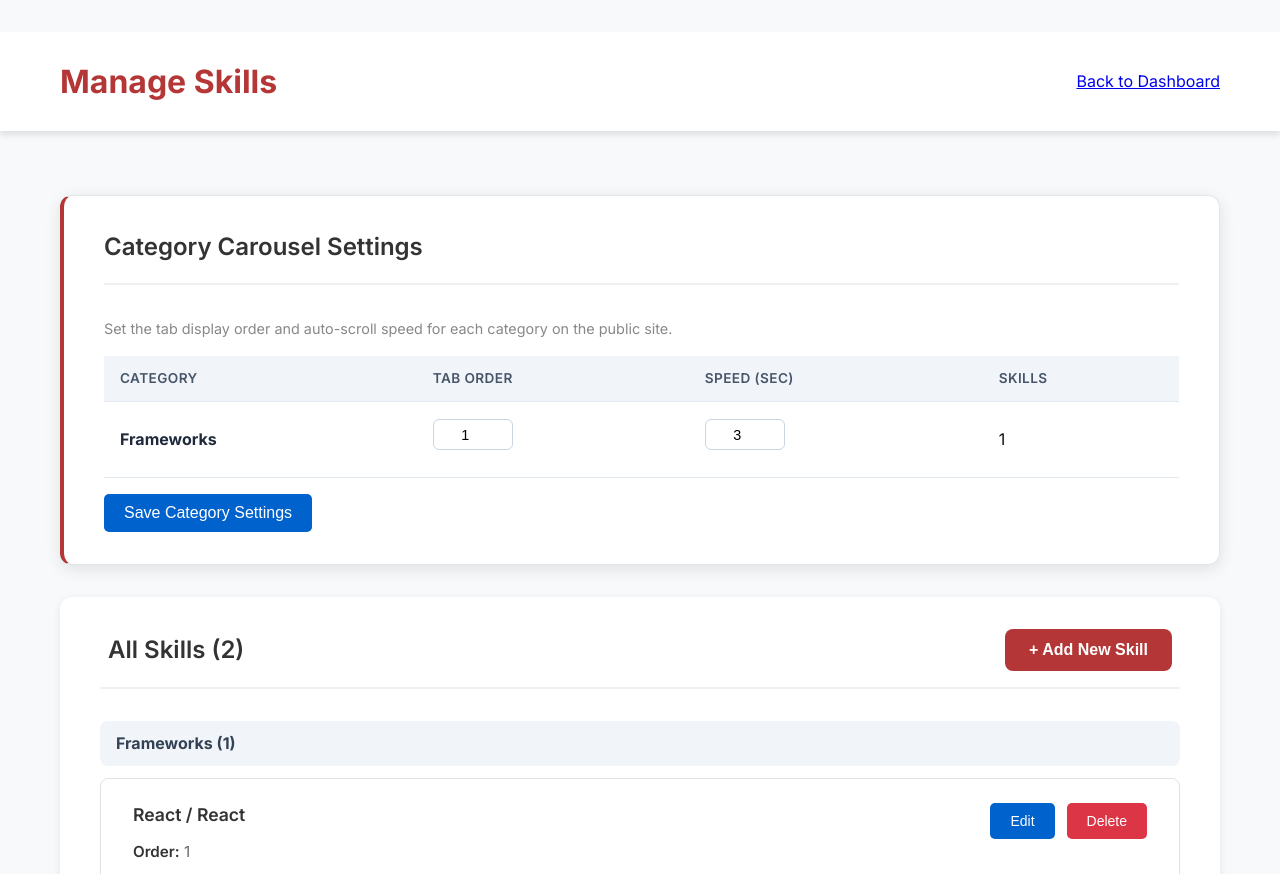
Test: AdminSkills › handles category settings save error
Click the button "Save Category Settings" at (208,513), box [104, 494, 312, 532]
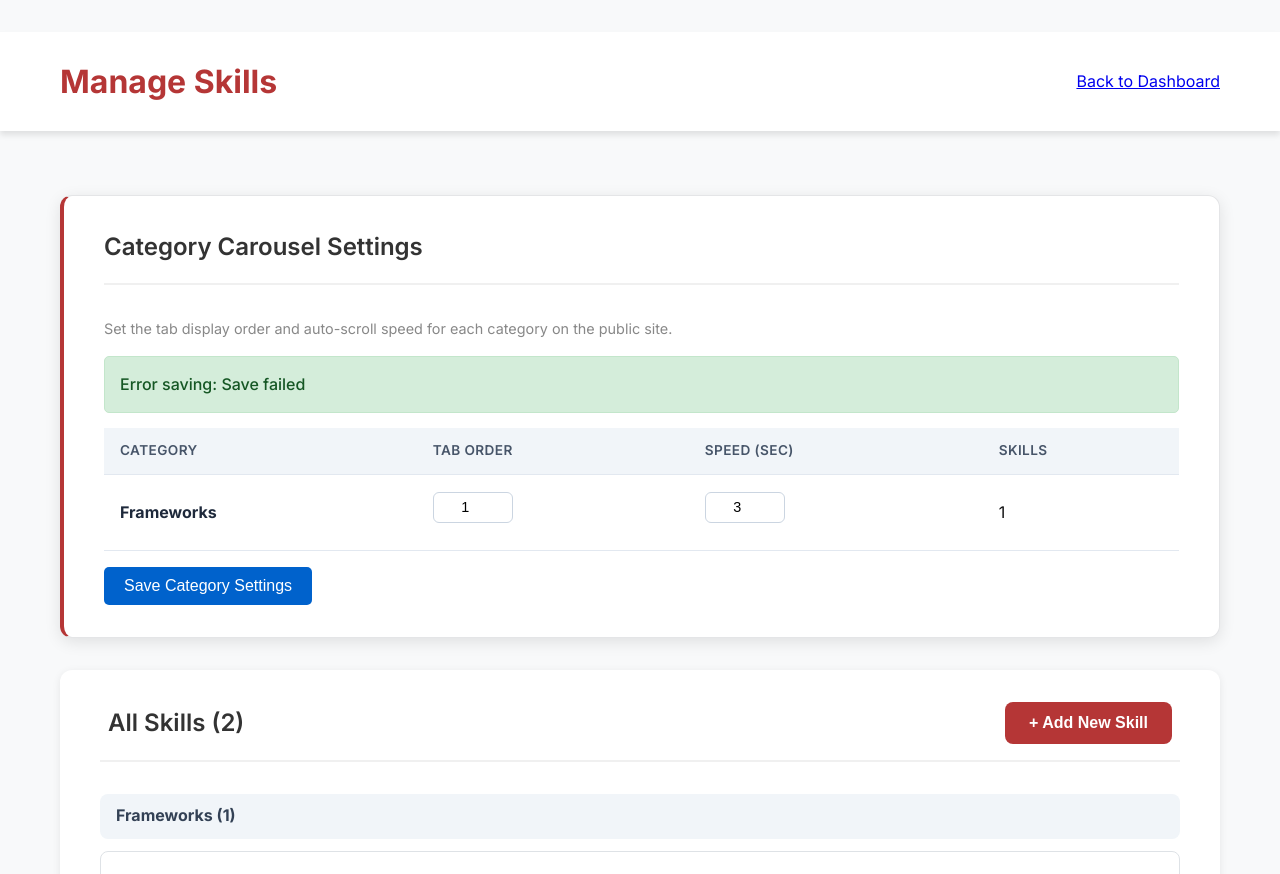
Check: the text "Error saving: Save failed" is shown, box [104, 356, 1179, 413]
